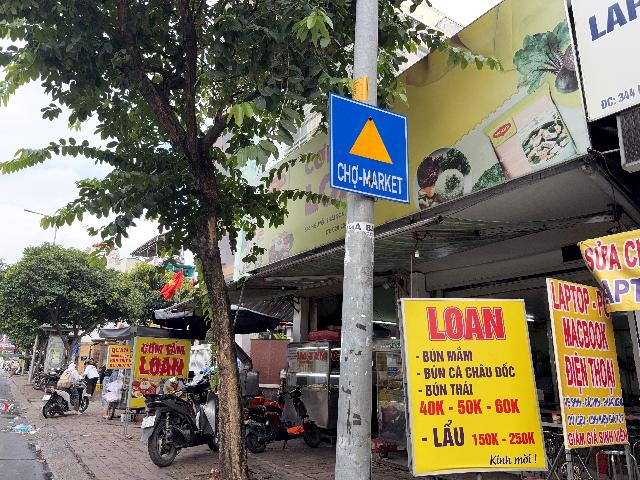khu-vuc-cho-phia-truoc: (329, 91, 410, 205)
